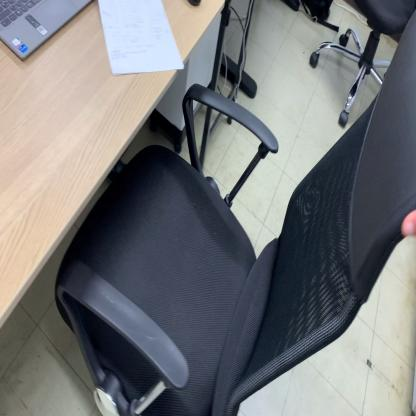chair: (52, 2, 416, 416), (307, 0, 416, 127)
